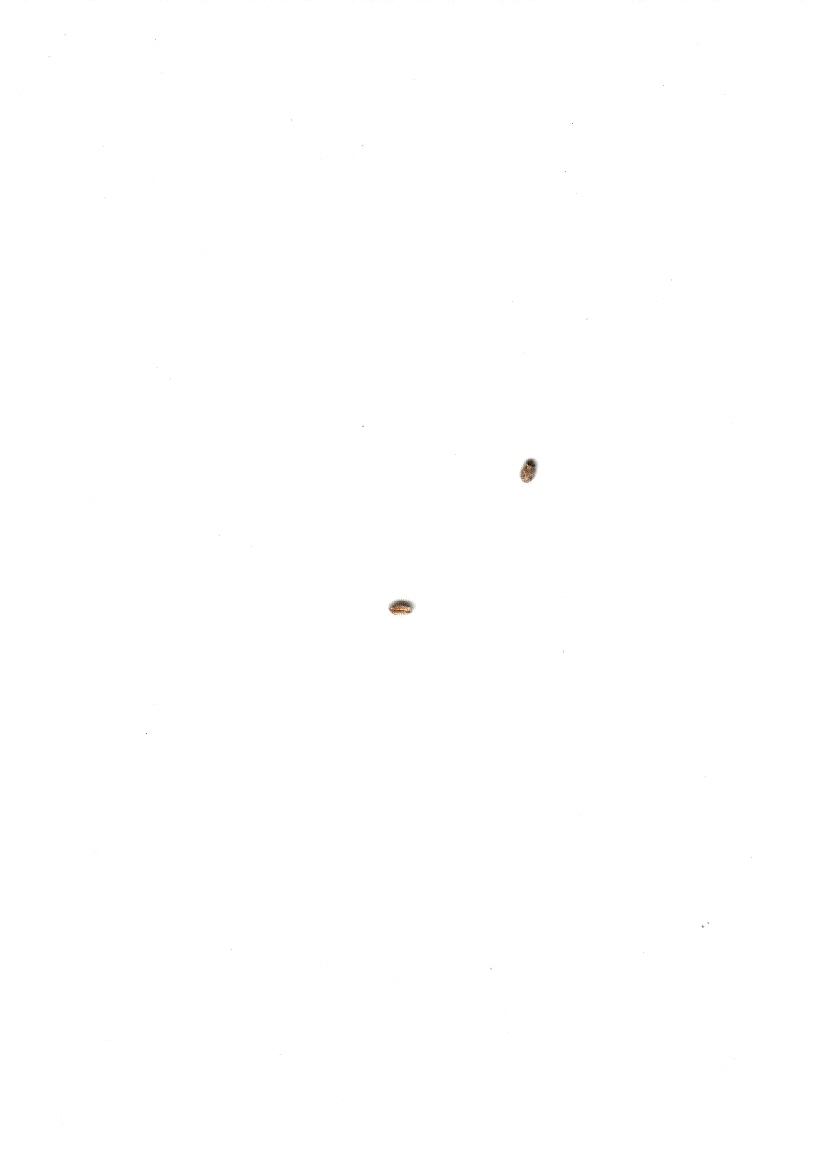grains: (507, 449, 553, 497), (380, 585, 423, 630)
